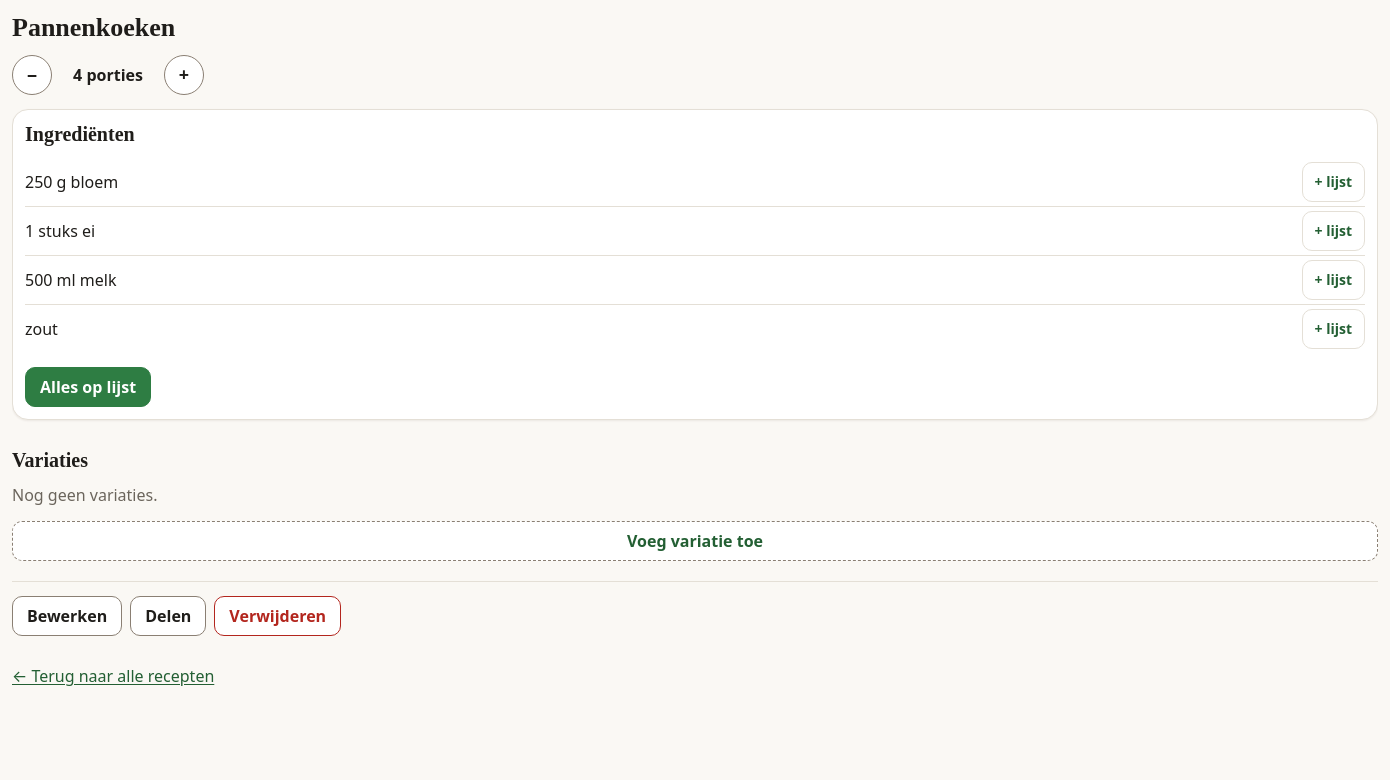
RecipeDetailView › porties en boodschappenlijst › schaalt alle hoeveelheden mee, behalve die zonder hoeveelheid
What coordinates should you click on to do the following:
click the button "+"
I would click on:
 (184, 75)
Its box is [164, 55, 204, 95].
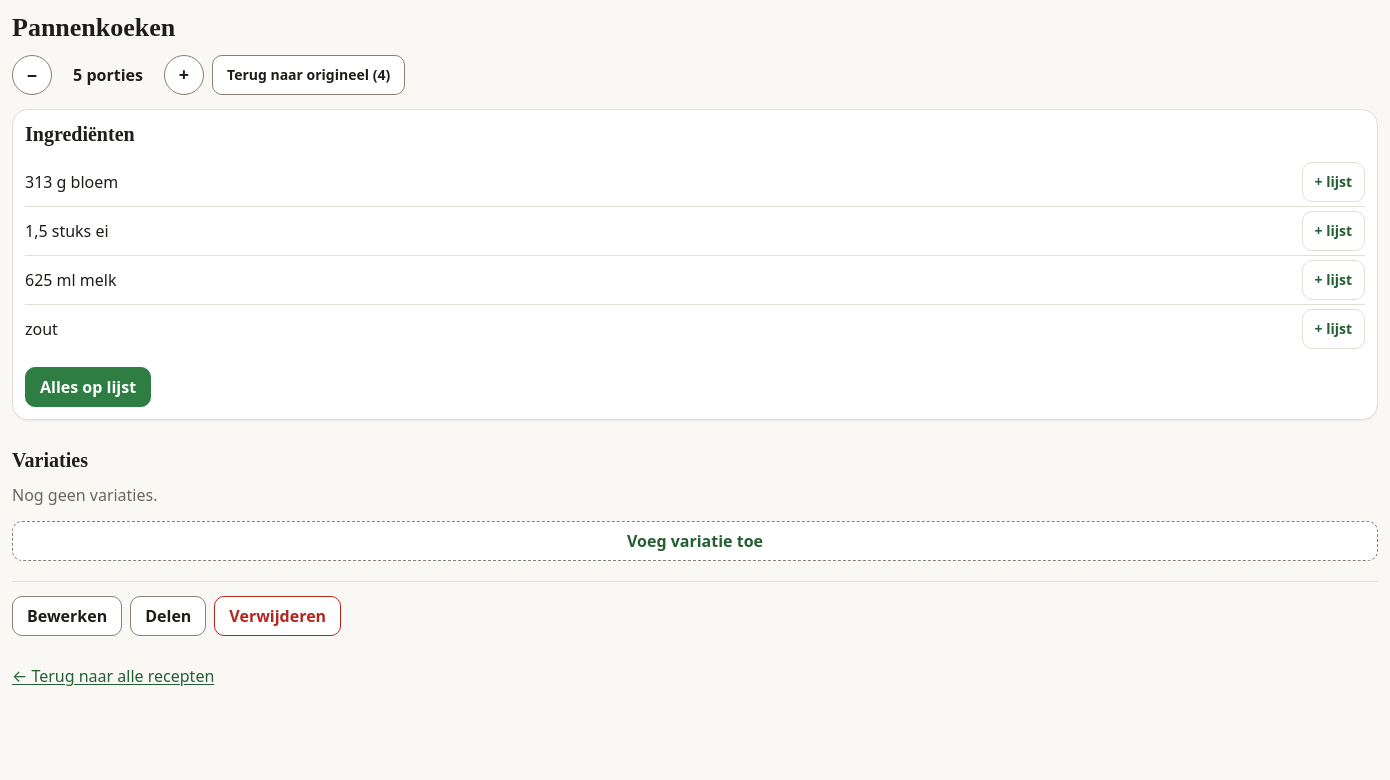
What coordinates should you click on to do the following:
click the button "+"
I would click on:
 (184, 75)
Its box is [164, 55, 204, 95].
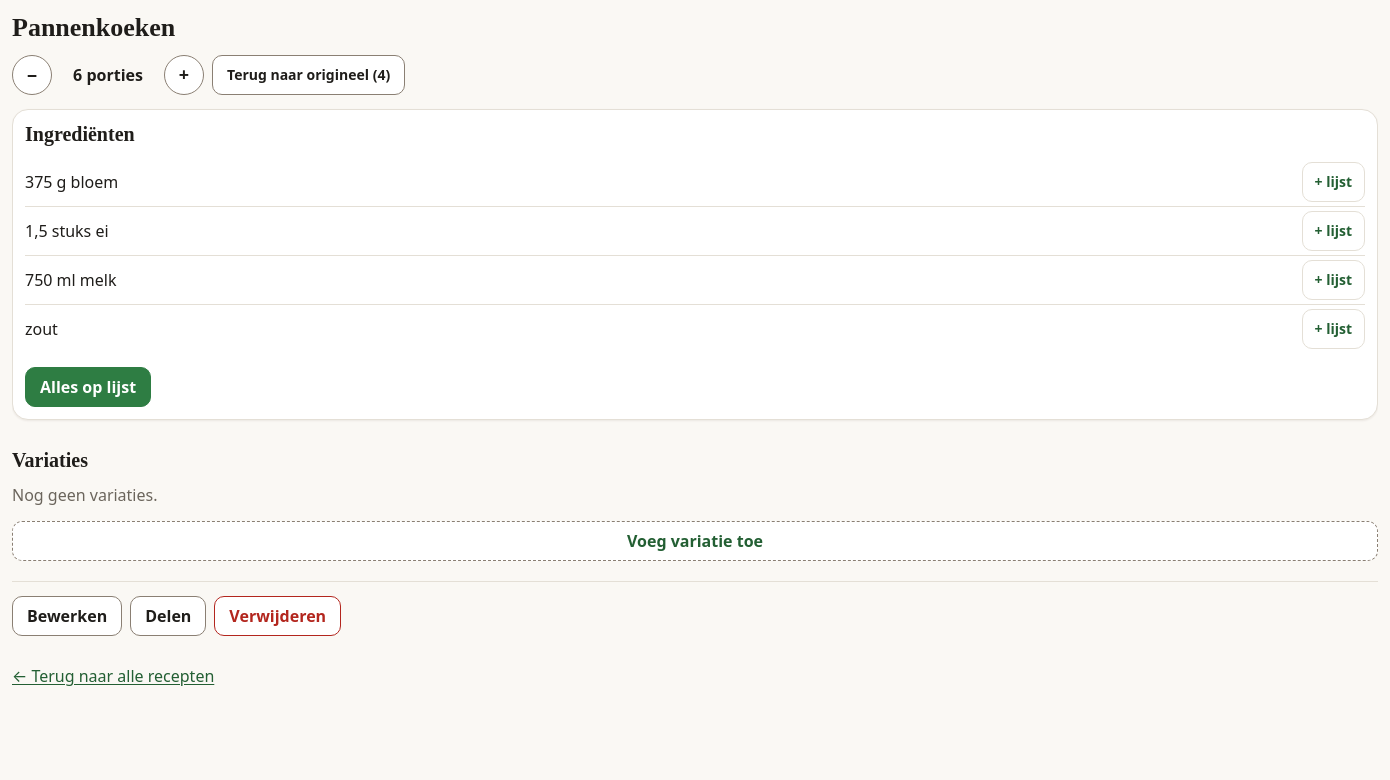
Expected: the text with class "servings-count" reads "6 porties", [73, 64, 143, 86]
